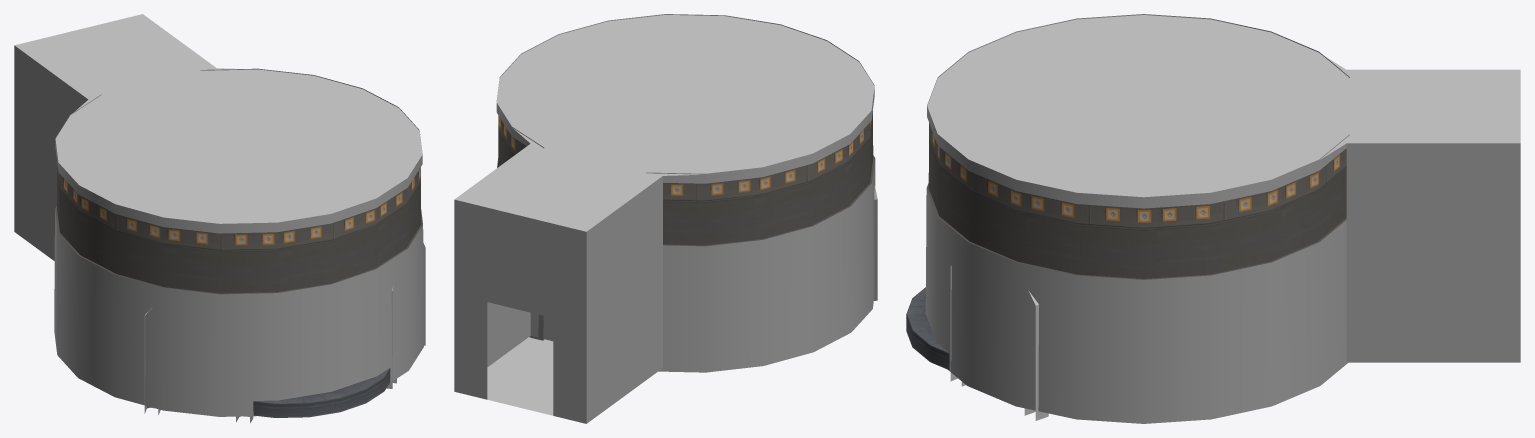
File: SM_Talisman_Room_01.fbx
The picture shows the model from 3 angles, left to right: view 1: azimuth 30°, elevation 25°; view 2: azimuth 150°, elevation 25°; view 3: azimuth 270°, elevation 25°; orthographic projection. The views are drawn at different scales.
Visible parts, largest first — view 1: SM_TalismanRoom_Wall_01, SM_TalismanRoom_Roof_01, SM_TalismanRoom_Wall_02, SM_TalismanRoom_CentralDais_02, SM_TalismanRoom_Arch_01; view 2: SM_TalismanRoom_Roof_01, SM_TalismanRoom_Wall_01, SM_TalismanRoom_Wall_02, SM_TalismanRoom_Bridge_02, SM_TalismanRoom_Arch_01; view 3: SM_TalismanRoom_Wall_01, SM_TalismanRoom_Roof_01, SM_TalismanRoom_Wall_02, SM_TalismanRoom_CentralDais_02, SM_TalismanRoom_Arch_01.
Part boxes in pixels (<box>): SM_TalismanRoom_Wall_01: <box>54,68,423,416</box>; SM_TalismanRoom_Roof_01: <box>15,14,422,223</box>; SM_TalismanRoom_Wall_02: <box>14,45,88,260</box>; SM_TalismanRoom_CentralDais_02: <box>253,368,390,417</box>; SM_TalismanRoom_Arch_01: <box>144,243,425,423</box>; SM_TalismanRoom_Roof_01: <box>454,15,874,231</box>; SM_TalismanRoom_Wall_01: <box>496,14,875,372</box>; SM_TalismanRoom_Wall_02: <box>454,176,662,423</box>; SM_TalismanRoom_Bridge_02: <box>487,337,553,415</box>; SM_TalismanRoom_Arch_01: <box>874,185,877,300</box>; SM_TalismanRoom_Wall_01: <box>925,14,1349,423</box>; SM_TalismanRoom_Roof_01: <box>927,15,1520,197</box>; SM_TalismanRoom_Wall_02: <box>1346,143,1520,362</box>; SM_TalismanRoom_CentralDais_02: <box>906,287,949,369</box>; SM_TalismanRoom_Arch_01: <box>950,264,1048,420</box>.
Bounding box in the file's own units: 12.53 × 7.52 × 17.64.
